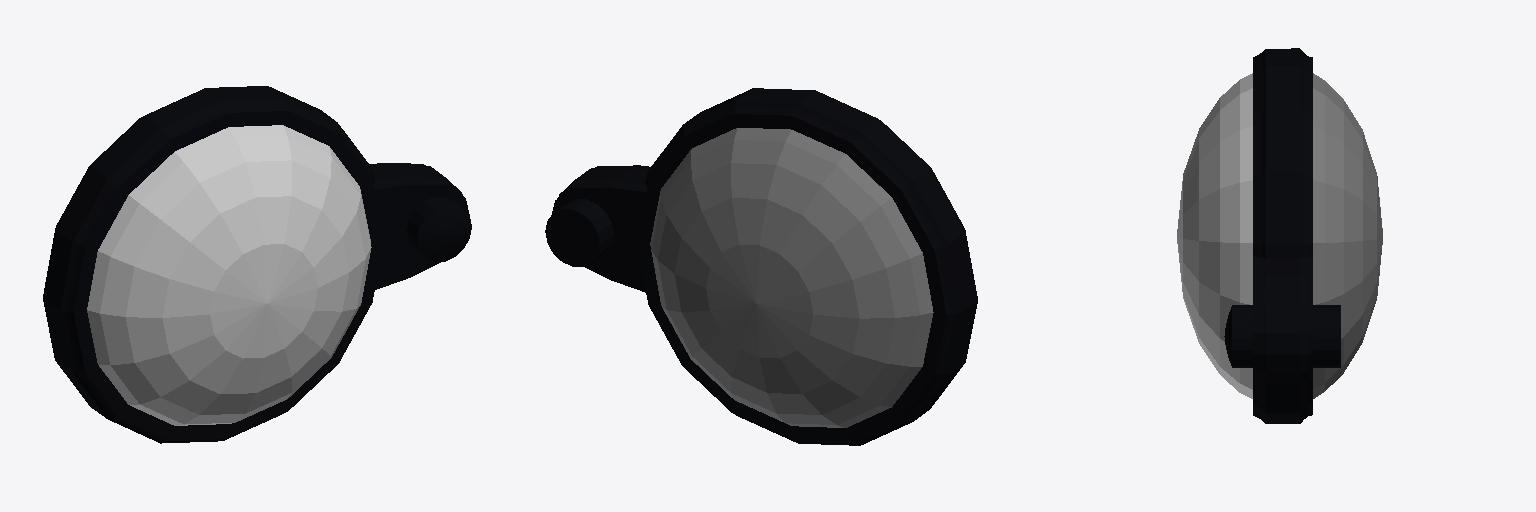
3 views of the same model, side by side, from view 1: azimuth 30°, elevation 25°; view 2: azimuth 150°, elevation 25°; view 3: azimuth 270°, elevation 25° (orthographic).
Visible parts, largest first — view 1: BezierCircle.005, BezierCircle.006, BezierCircle.003, BezierCurve.001; view 2: Glas, BezierCircle.006, BezierCircle.003, BezierCurve.001; view 3: BezierCircle.005, Glas, BezierCircle.006, BezierCircle.003, BezierCurve.001.
Boxes of the visible parts, <box> form: BezierCircle.005: <box>87,125,371,425</box>; BezierCircle.006: <box>43,86,383,443</box>; BezierCircle.003: <box>369,163,469,289</box>; BezierCurve.001: <box>407,196,471,261</box>; Glas: <box>650,128,933,427</box>; BezierCircle.006: <box>637,88,977,445</box>; BezierCircle.003: <box>551,165,650,292</box>; BezierCurve.001: <box>545,199,613,266</box>; BezierCircle.005: <box>1177,73,1252,398</box>; Glas: <box>1313,73,1382,398</box>; BezierCircle.006: <box>1253,48,1312,423</box>; BezierCircle.003: <box>1253,257,1312,382</box>; BezierCurve.001: <box>1224,305,1340,367</box>.
Size of the model in its own units: 0.6584 by 0.5277 by 0.2899.
Materials: 4 (2 with a texture image).